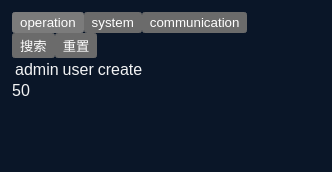
Test: AuditLog 审计日志 › 切换到系统日志标签页
Click the button with test id "tab-system".
click(113, 22)  # box top-left (84, 12), bottom-right (142, 33)
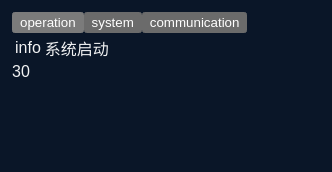
Result: the element with test id "sys-panel" is shown at top-left (12, 39), bottom-right (109, 80)
Result: the row with test id "sys-1" is shown at top-left (14, 35), bottom-right (110, 61)
